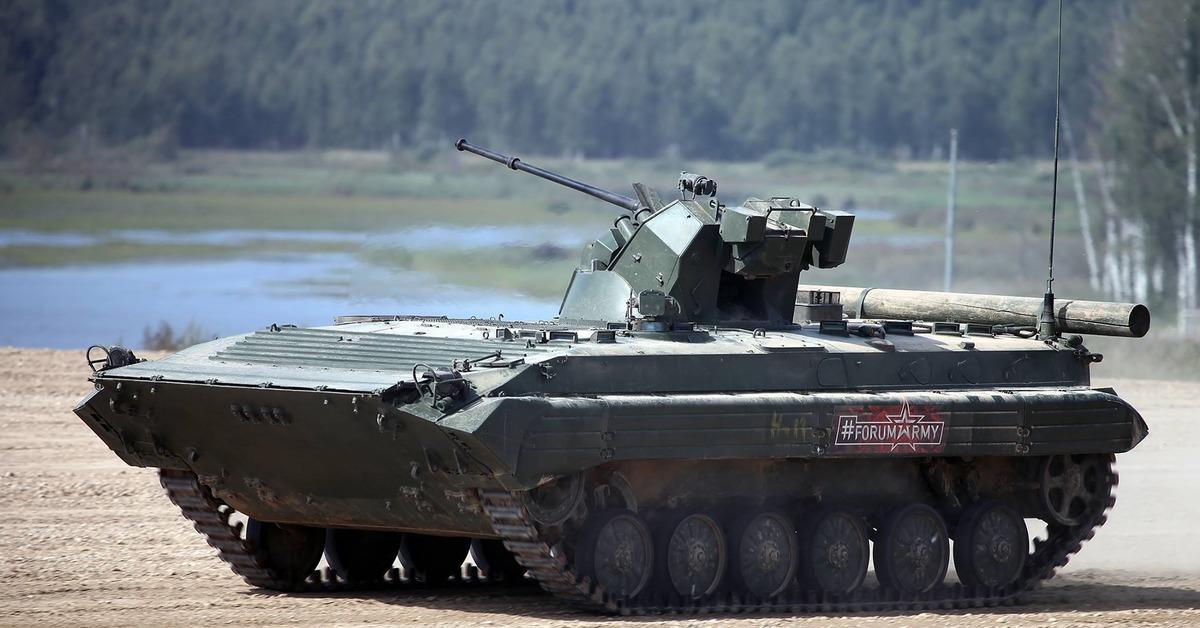tank: (72, 136, 1151, 618)
